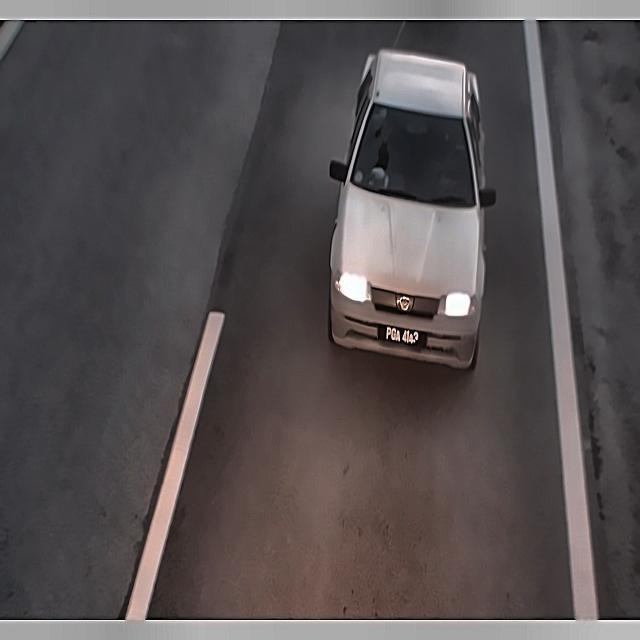car: (381, 320, 427, 352)
